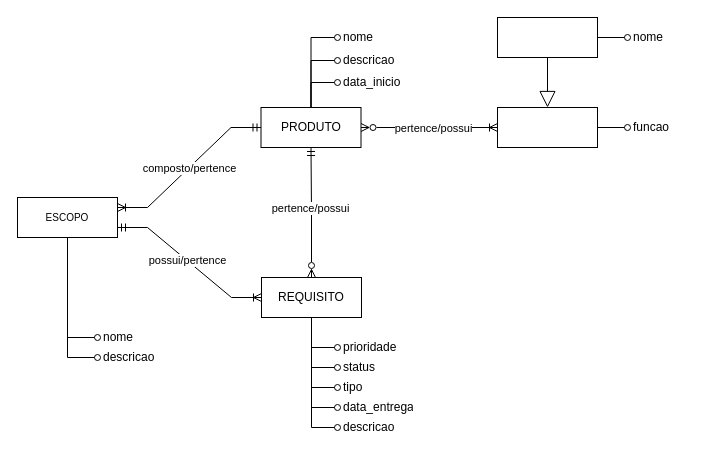
The diagram is 725 pixels wide and 455 high, and some of its shapes have lost their labels. The centre of each missing label's shape, as x and y in pixels:
"MEMBRO" goes at (x=547, y=127).
"PESSOA" goes at (x=547, y=37).
